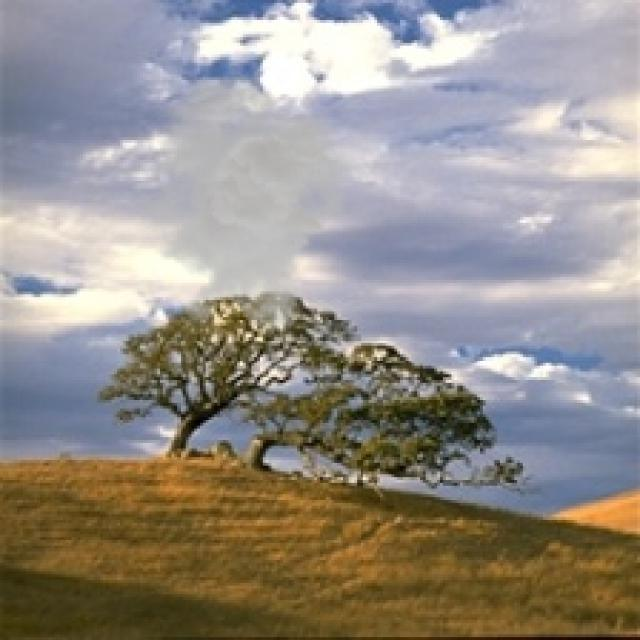Smoke: (120, 74, 357, 337)
